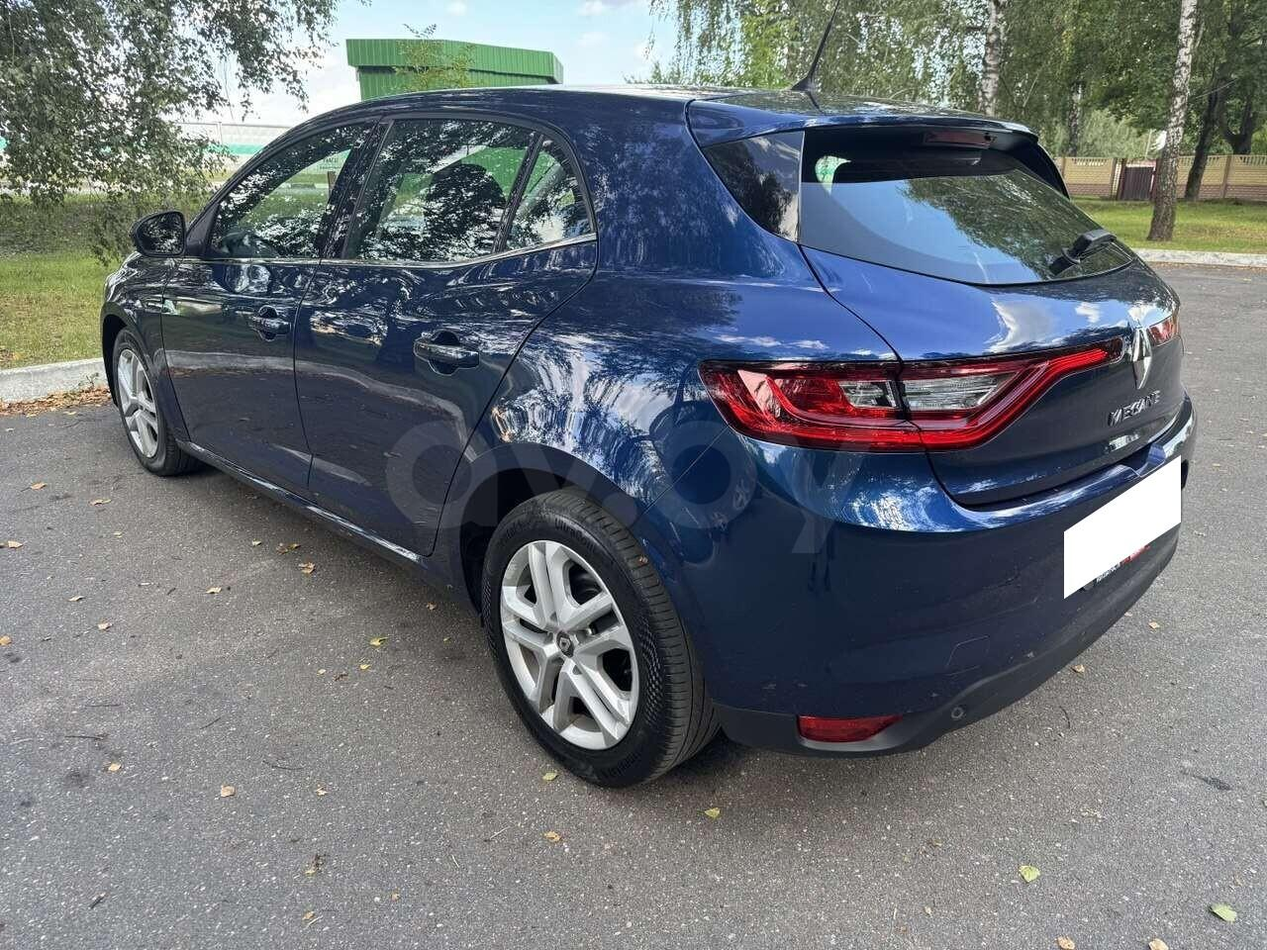Megane_2016-2020: (93, 83, 1204, 792)
